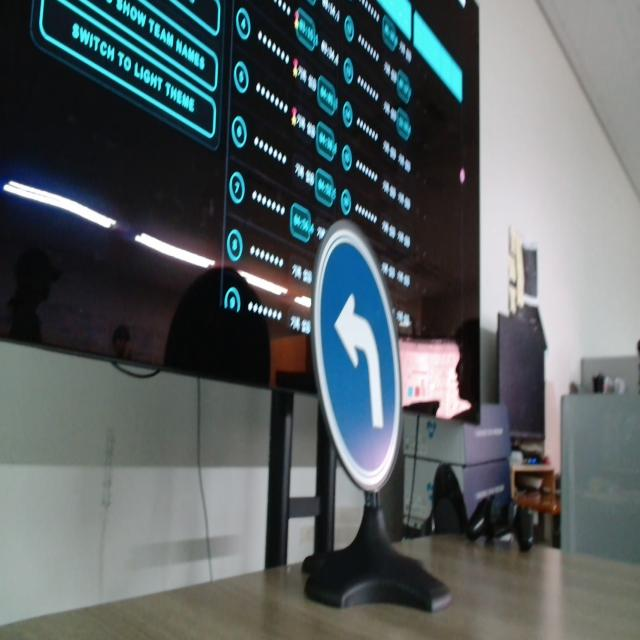left_direction: (306, 216, 410, 497)
